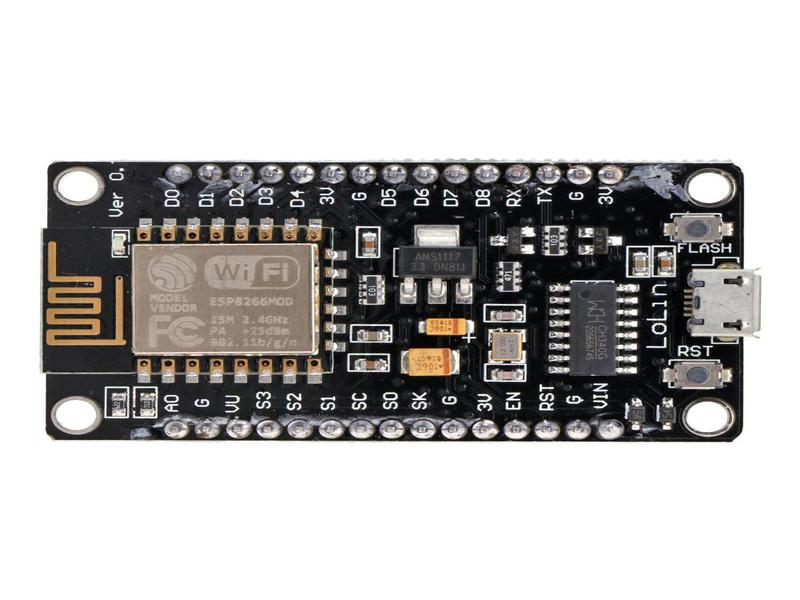ESP8266: (40, 154, 767, 445)
